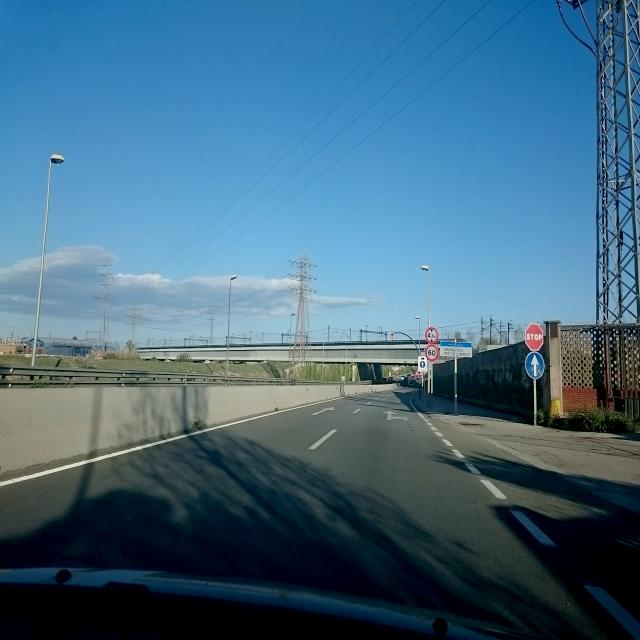car: (397, 374, 408, 386)
